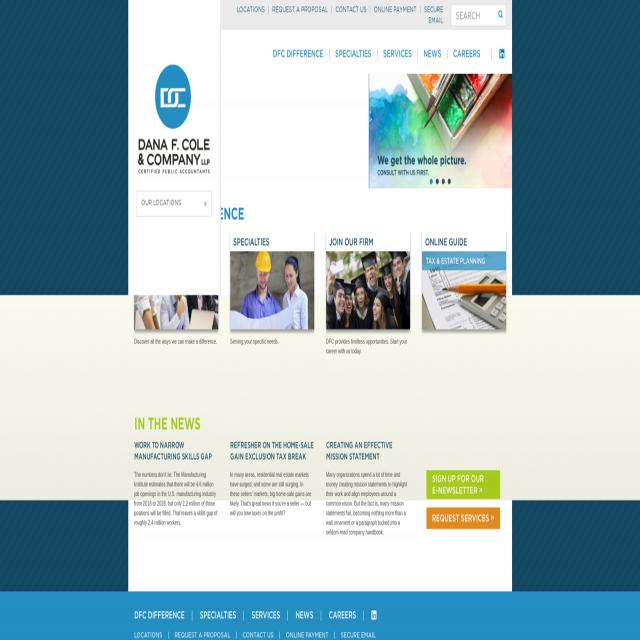button: (369, 74, 512, 188), (133, 57, 216, 182), (230, 252, 314, 329), (326, 252, 410, 329), (422, 252, 506, 329), (134, 295, 218, 334), (426, 470, 500, 499), (426, 507, 500, 529), (498, 10, 504, 20), (372, 610, 376, 620), (500, 49, 504, 58)
field: (136, 191, 212, 217), (450, 5, 506, 28)
